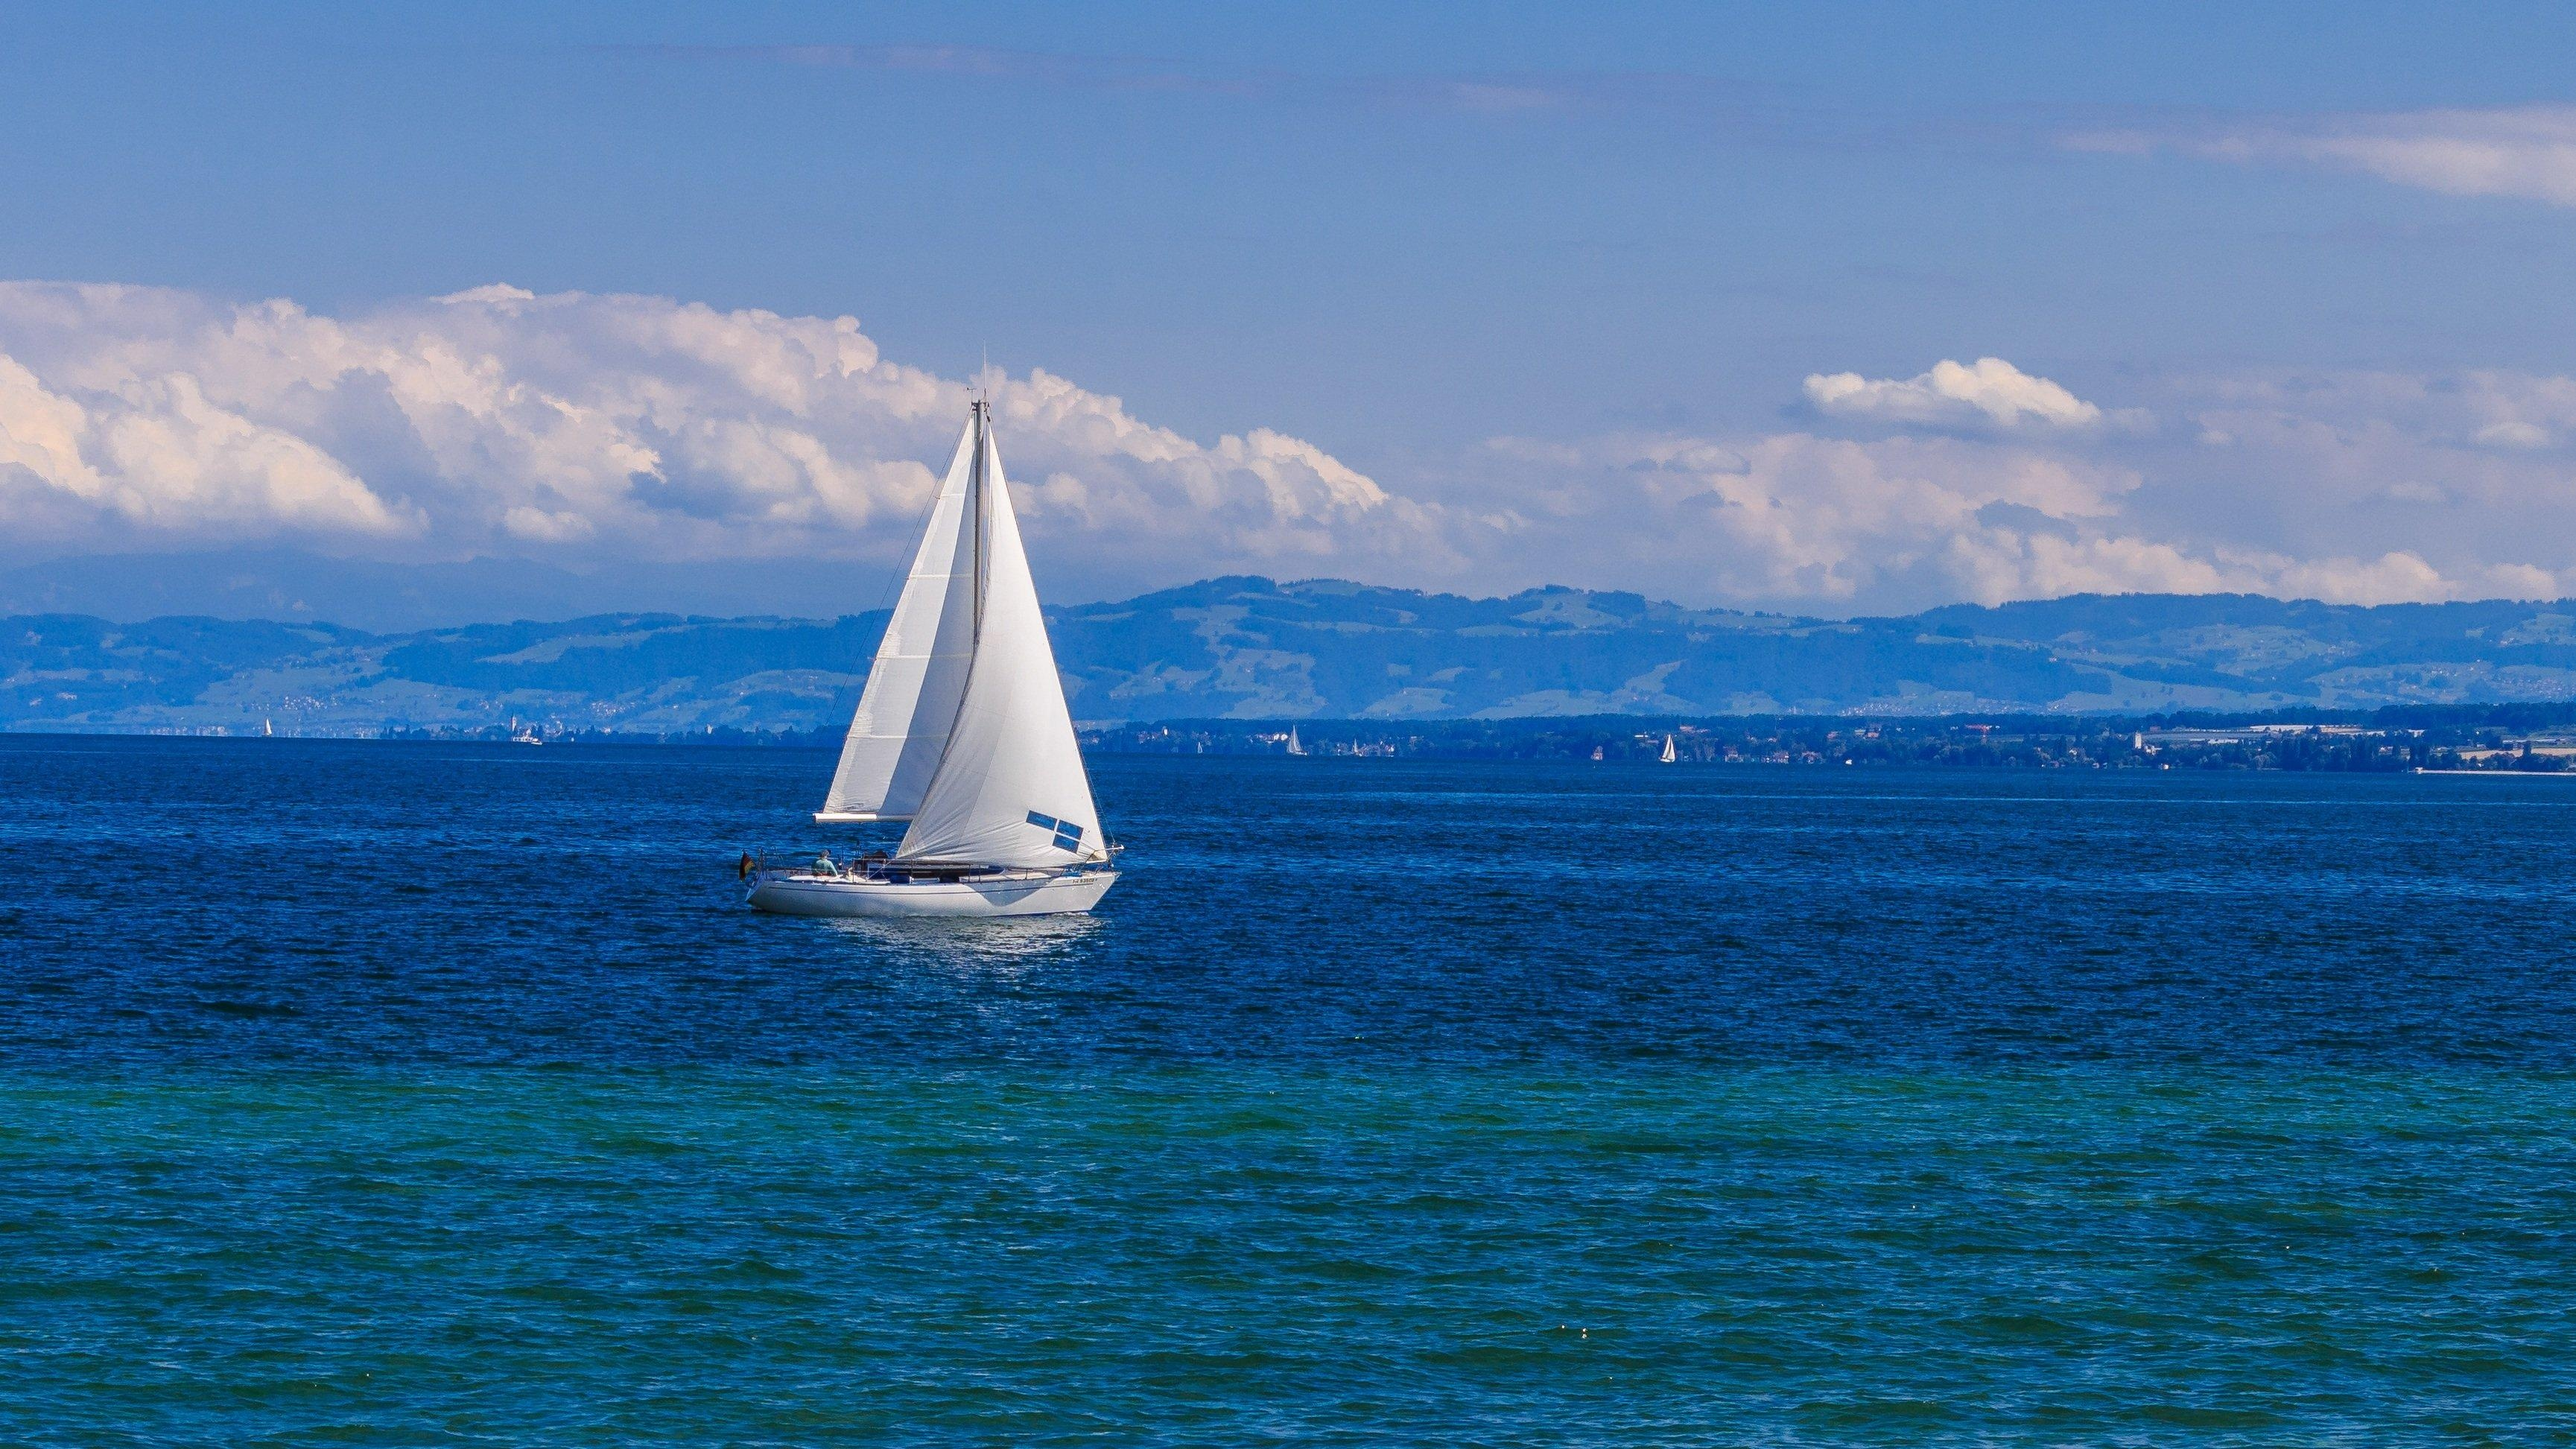fanchuan: (750, 379, 1150, 934)
